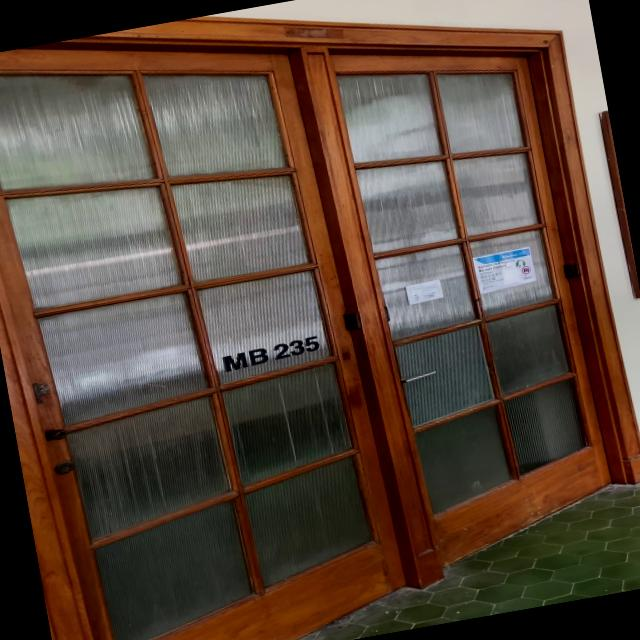room235Window: (217, 330, 325, 376)
